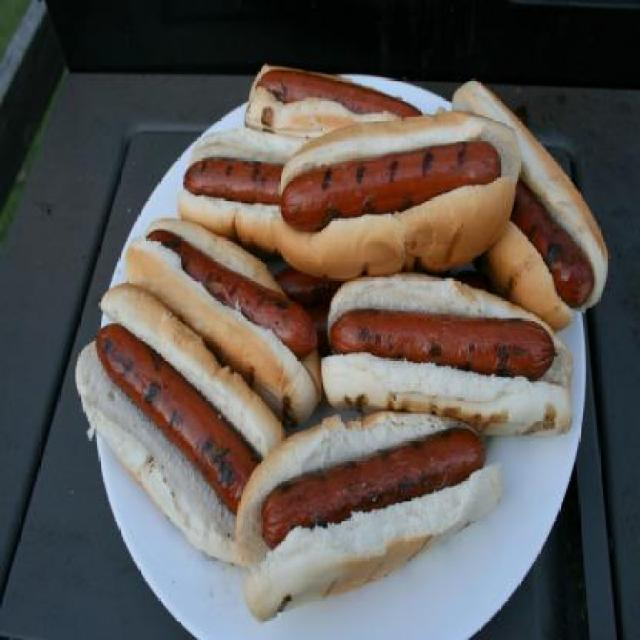Hot dog: (76, 62, 610, 626), (272, 110, 520, 284), (312, 262, 568, 428)
